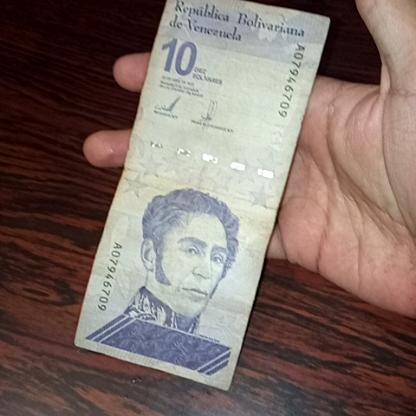ten-front-vef: (72, 0, 328, 399)
